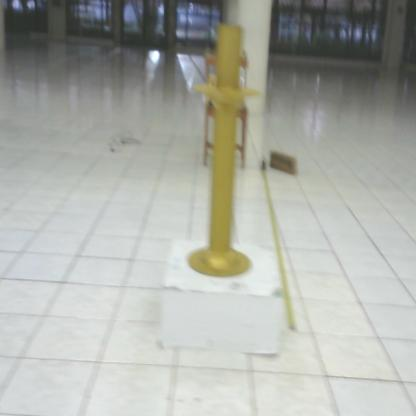pole: (183, 22, 266, 281)
